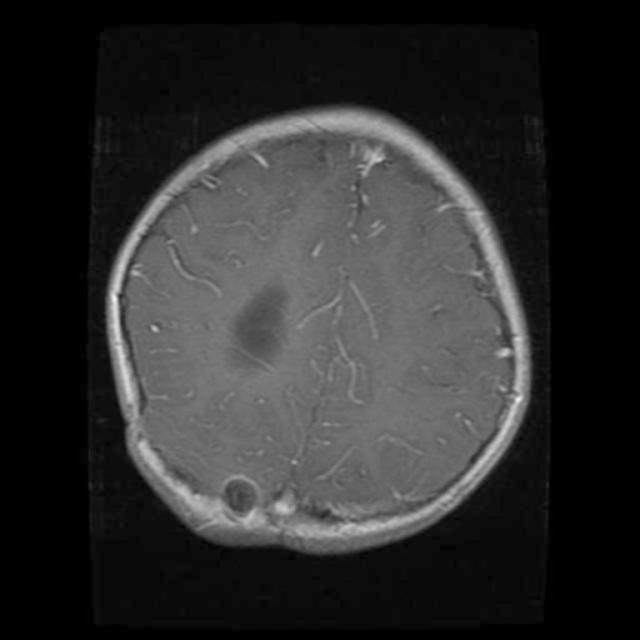pituitary tumor: (221, 281, 290, 374), (216, 474, 255, 528)
